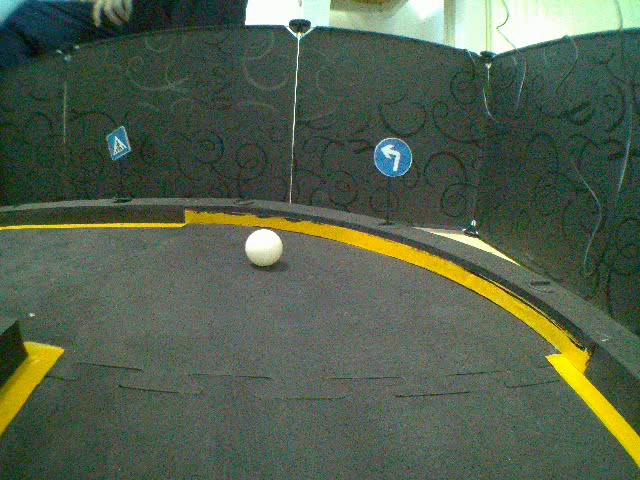ball: (243, 227, 283, 267)
